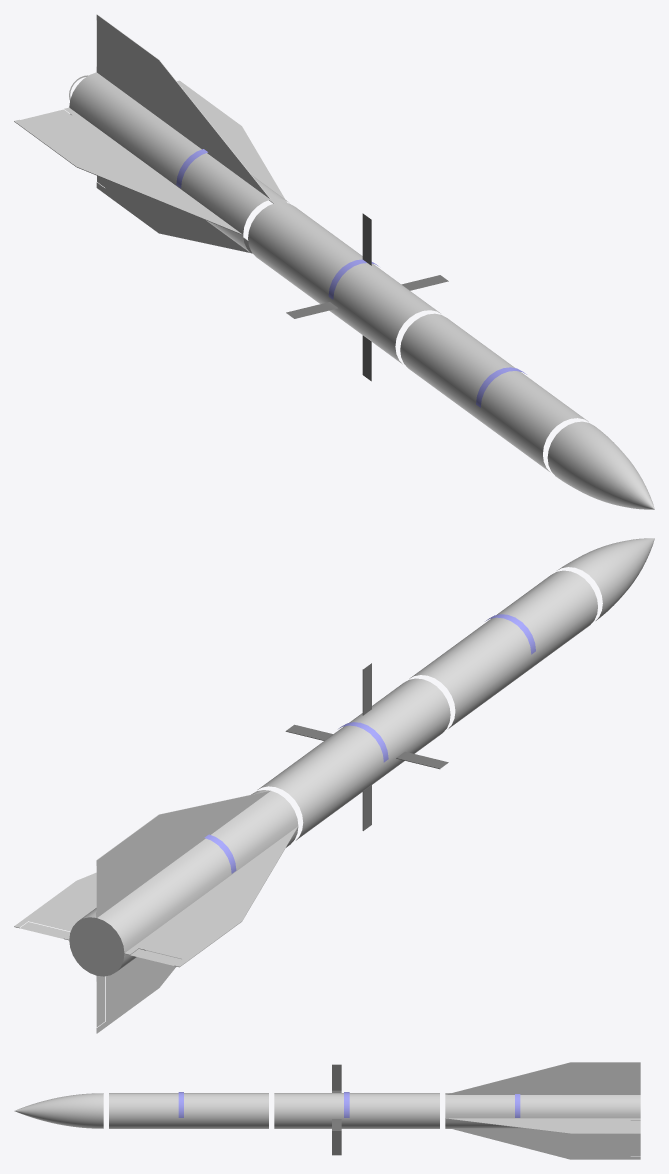
The model's file is MISSILE.glb.
The picture shows the model from 3 angles, top to bottom: view 1: azimuth 30°, elevation 25°; view 2: azimuth 150°, elevation 25°; view 3: azimuth 270°, elevation 25°; orthographic projection. The views are drawn at different scales.
Parts seen in each view (by area): view 1: Material2.001, Material2.002, Material2; view 2: Material2.001, Material2.002, Material2; view 3: Material2.001, Material2.002, Material2.
Part boxes in pixels (x1,y1,x2,y2): Material2.001: [14, 14, 654, 509]; Material2.002: [286, 213, 448, 381]; Material2: [176, 149, 526, 407]; Material2.001: [14, 538, 654, 1033]; Material2.002: [285, 663, 448, 830]; Material2: [204, 614, 535, 873]; Material2.001: [14, 1062, 640, 1159]; Material2.002: [332, 1064, 341, 1155]; Material2: [178, 1092, 520, 1117].
Size of the model in its own units: 23.62 by 23.62 by 141.
